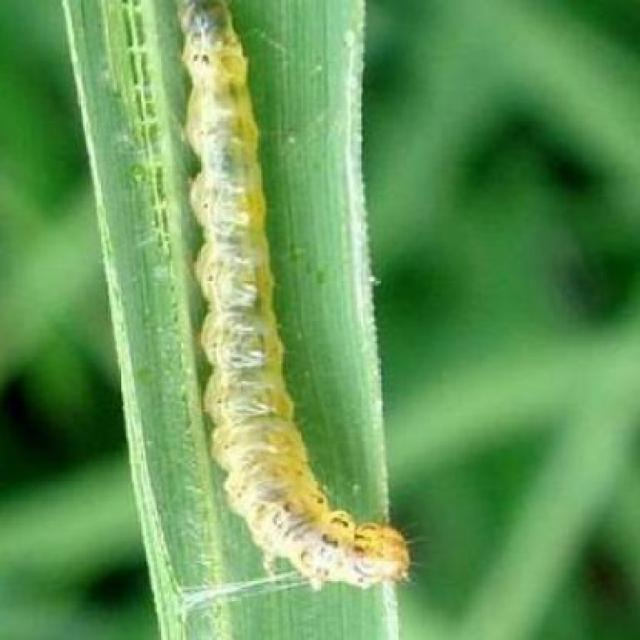leaf-folder: (106, 6, 446, 620)
